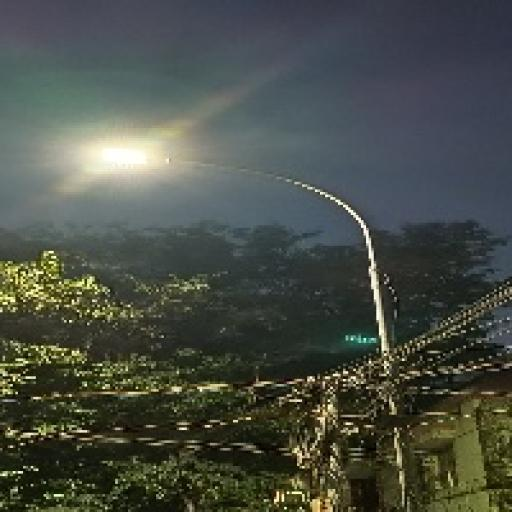Working: (60, 123, 175, 196)
